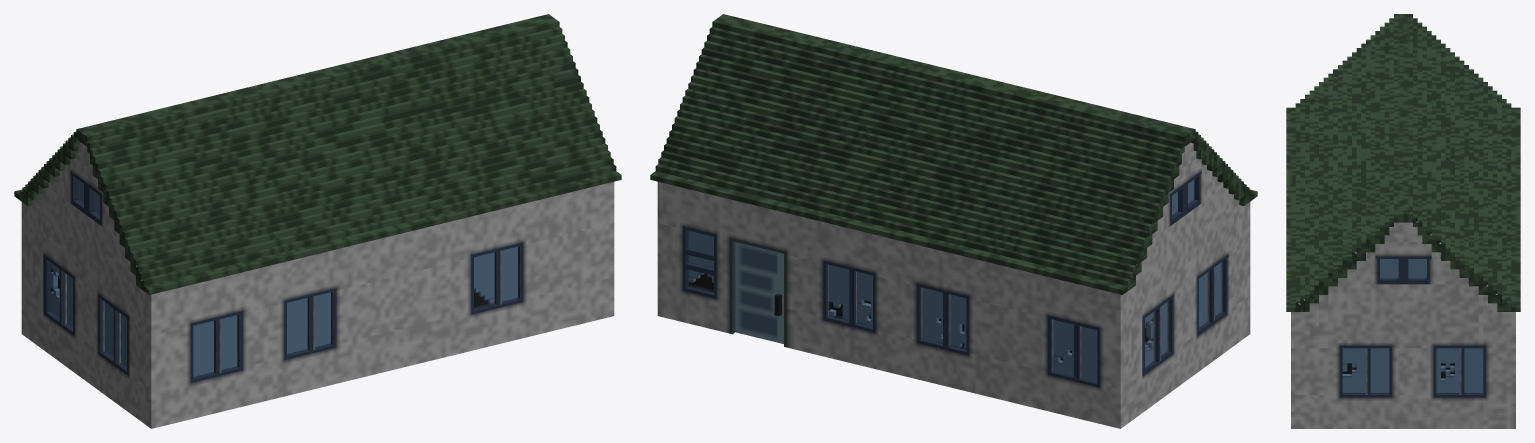
The model's file is domek_1.dae.
3 renders of one model, left to right at view 1: azimuth 30°, elevation 25°; view 2: azimuth 150°, elevation 25°; view 3: azimuth 270°, elevation 25°, orthographic. The views are drawn at different scales.
Parts seen in each view (by area): view 1: Content; view 2: Content; view 3: Content.
Part boxes in pixels (x1=…): Content: x1=14, y1=14, x2=621, y2=428; Content: x1=650, y1=14, x2=1257, y2=428; Content: x1=1286, y1=14, x2=1520, y2=428.
Bounding box in the file's own units: 101 × 51 × 50.
1 material, 1 textured.
